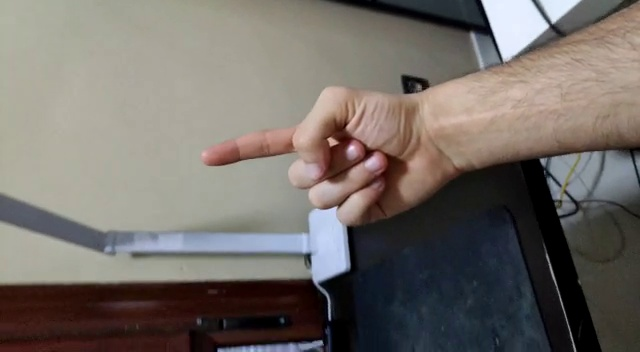One: (190, 81, 428, 220)
